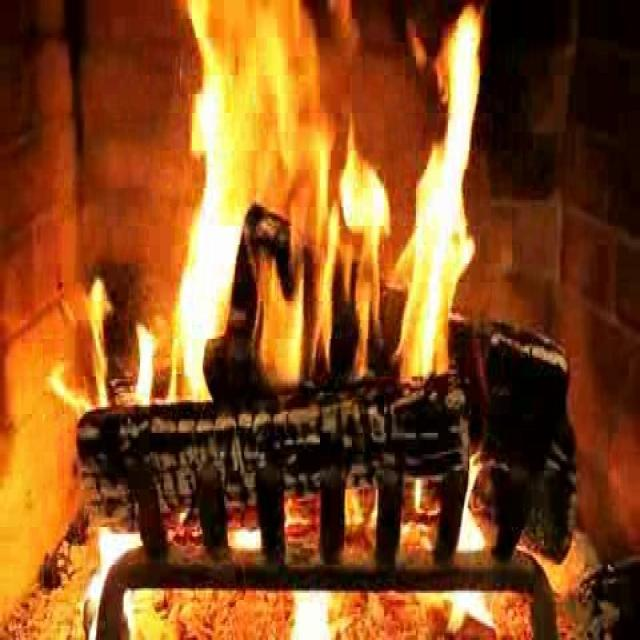Fire: (162, 1, 489, 396)
